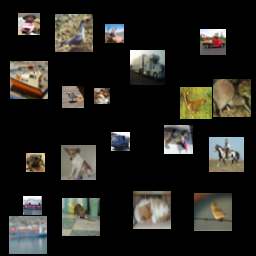airplane: (51, 54, 89, 92), (22, 53, 48, 79)
automobile: (94, 122, 132, 160), (44, 9, 76, 41), (10, 14, 29, 33)
bird: (147, 33, 179, 65)
cat: (98, 192, 130, 224), (191, 193, 220, 222), (57, 100, 79, 122)
deer: (146, 118, 184, 156)
dog: (192, 90, 230, 128), (55, 198, 93, 236), (69, 171, 88, 190)
frog: (16, 118, 38, 140)
ship: (193, 54, 228, 89), (19, 185, 54, 220), (157, 193, 183, 219)
